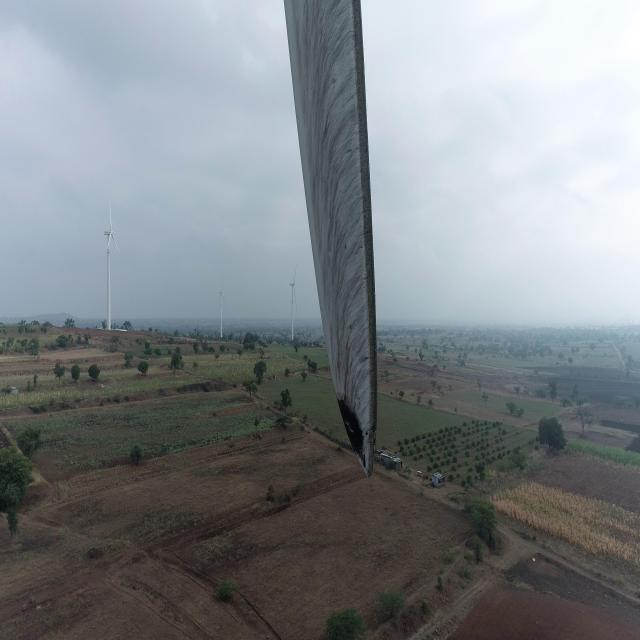Dirt: (285, 0, 380, 473)
Oil LEAKAGE: (336, 396, 367, 464)
